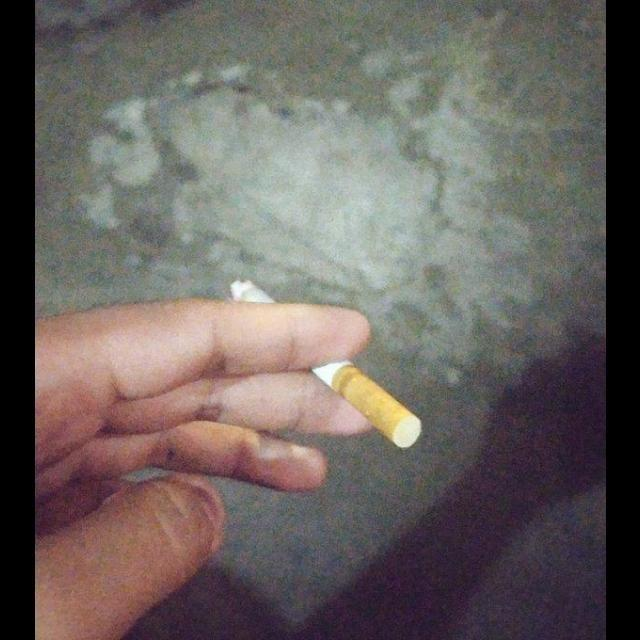rokok: (226, 269, 429, 455)
